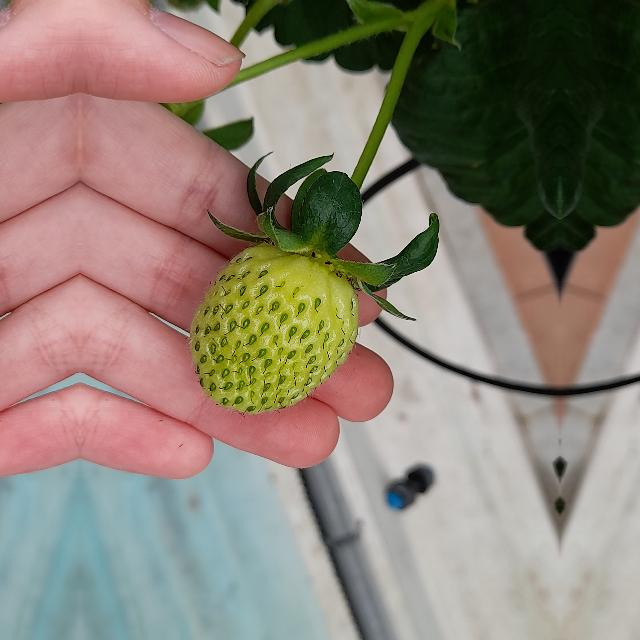Health_25: (189, 241, 359, 414)
